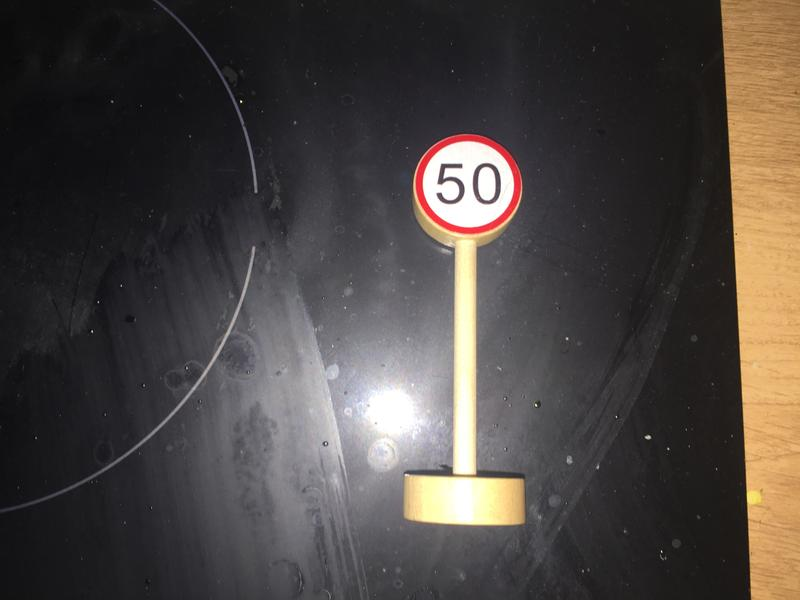Traffic_Sign_50: (416, 136, 519, 237)
